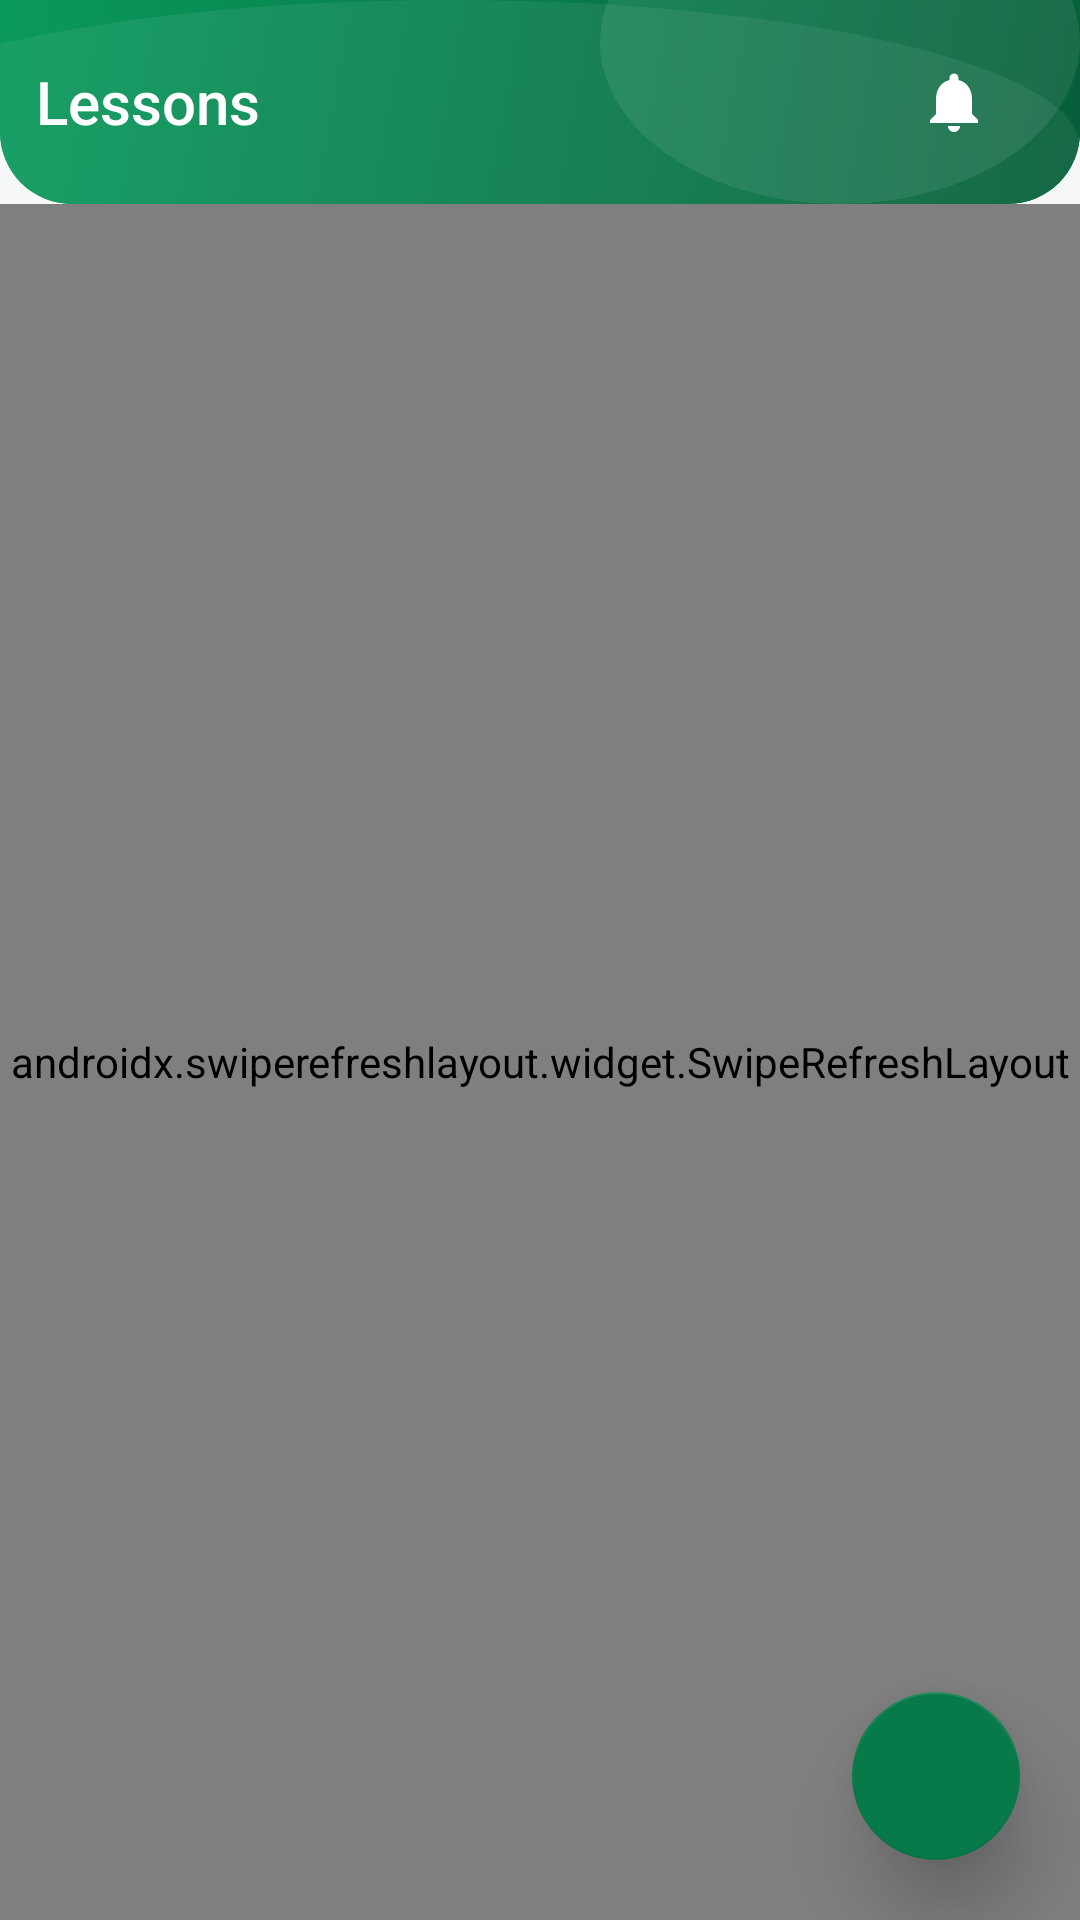

Where to tap for icons on this 1080×1920 app screen, as point (x, y):
Notifications: point (954, 102)
